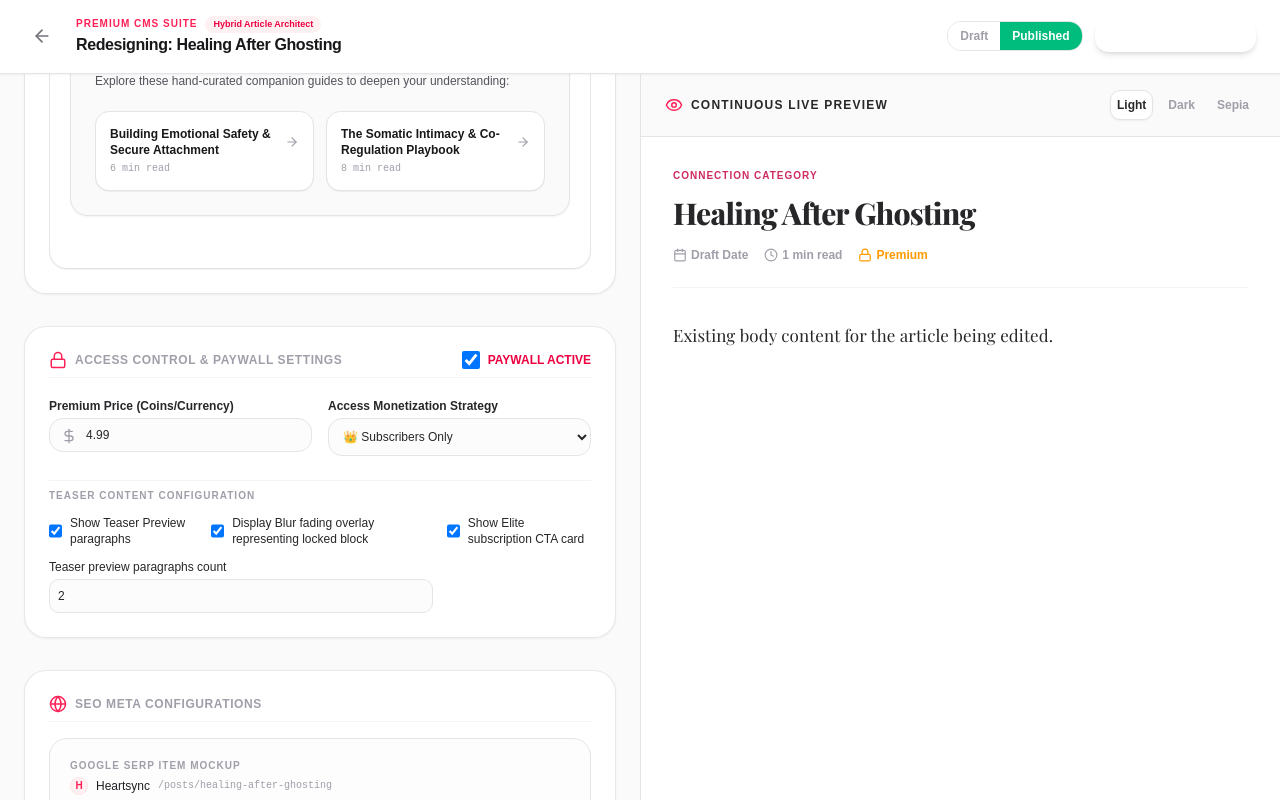
Test: RichTextEditor > Access Control & Paywall (ad unlock at publish time) › reveals the ad-unlock sub-controls when the strategy is set to watch-ad
(page scrolled)
Expected: the text "Ad Provider Network" is not shown
Select "📺 Unlockable by Watching Ad" in the dropdown at (460, 437), box [328,418,591,456]
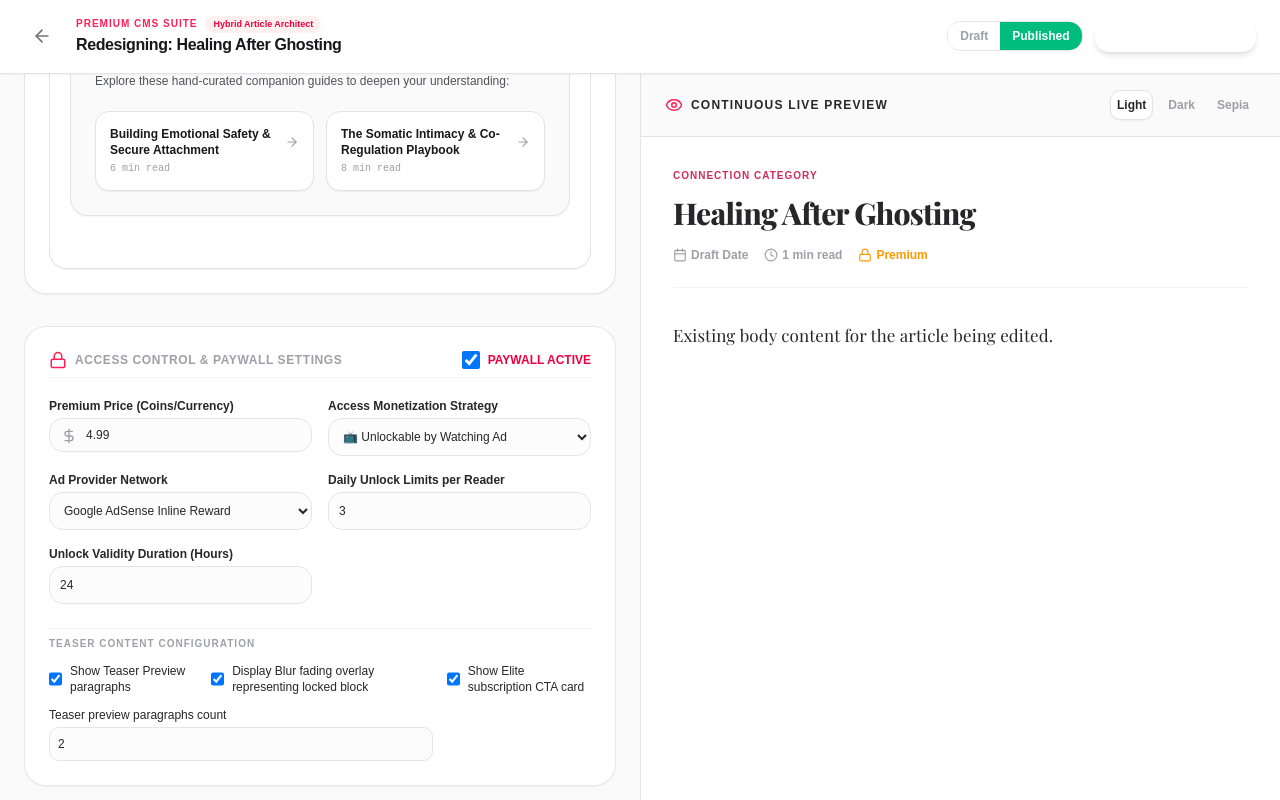
Result: the text "Ad Provider Network" is shown at [49,473,168,487]
Result: the text "Daily Unlock Limits per Reader" is shown at [328,473,505,487]
Result: the text "Unlock Validity Duration (Hours)" is shown at [49,547,233,561]
